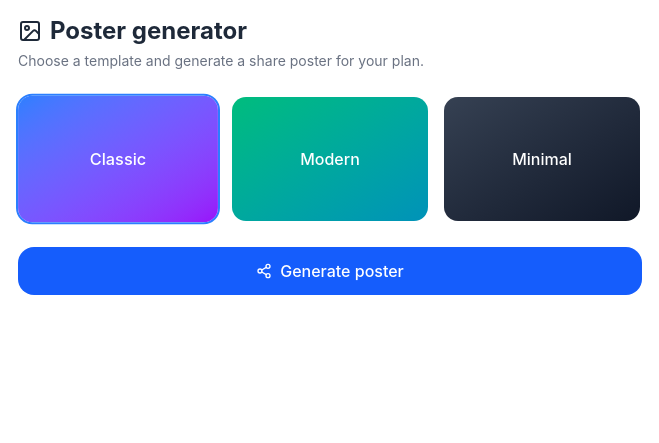
Test: PosterPreviewPage › renders poster page and generation flow with English labels
Expected: the heading "Poster generator" is shown, [18,16,247,45]
Expected: the text "Choose a template and generate a share poster for your plan." is shown, [18,52,424,69]
Click the button "Generate poster".
click(330, 271)  # box [18,247,642,295]
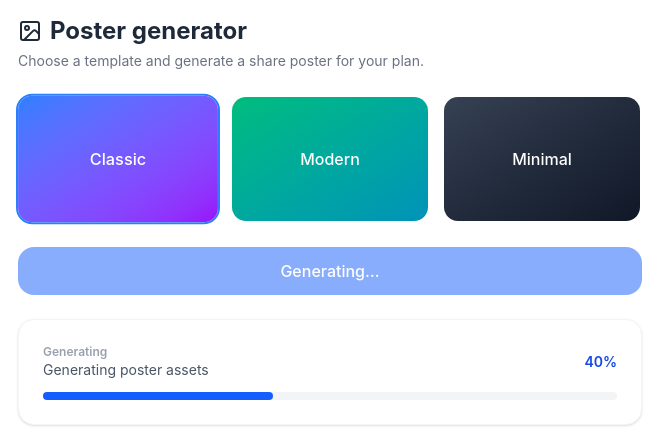
Expected: the text "Generating" is shown, [43,344,107,359]
